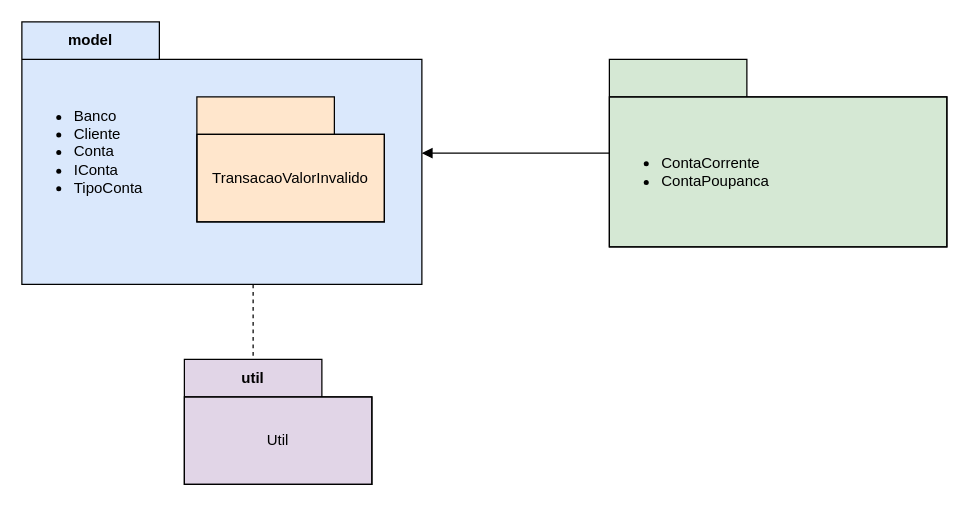
Image size: 969x506. Some labels were removed from this diagram. Here are the shapes that lost their labels. From the top down, the centre of each, then its label:
At [290,159]: "exception".
At [777,152]: "service".
